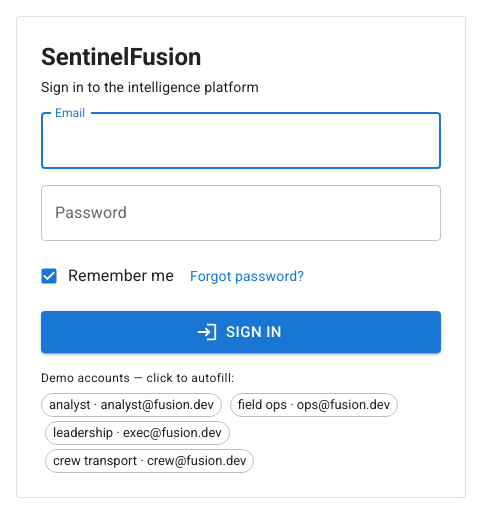
Test case: LoginPage › autofills credentials when a demo account chip is clicked
This screenshot has width=483, height=515.
Click the button "analyst · analyst@fusion.dev". click: (131, 405)
box: [41,393,222,417]
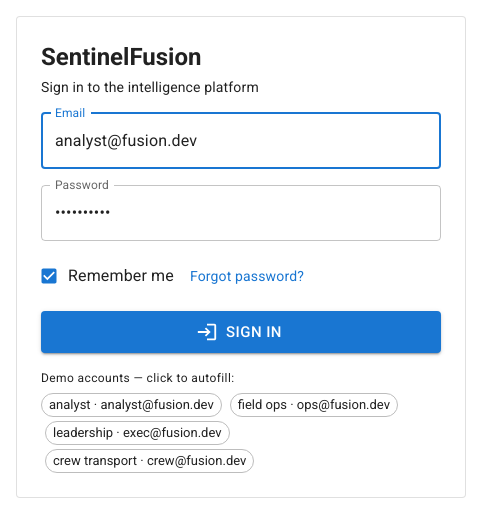
Expected: the field labelled "Email" holds "analyst@fusion.dev", [41,113,441,169]
Expected: the password field labelled "Password" holds "analyst123", [41,185,441,241]
